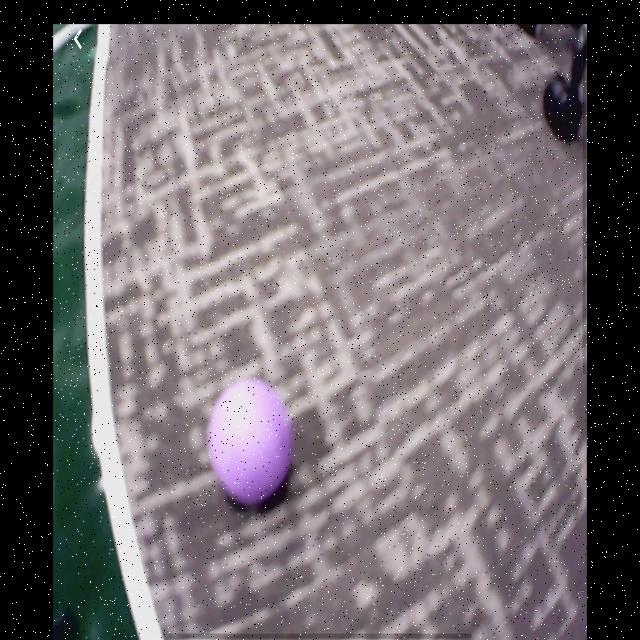ball: (207, 376, 295, 509)
